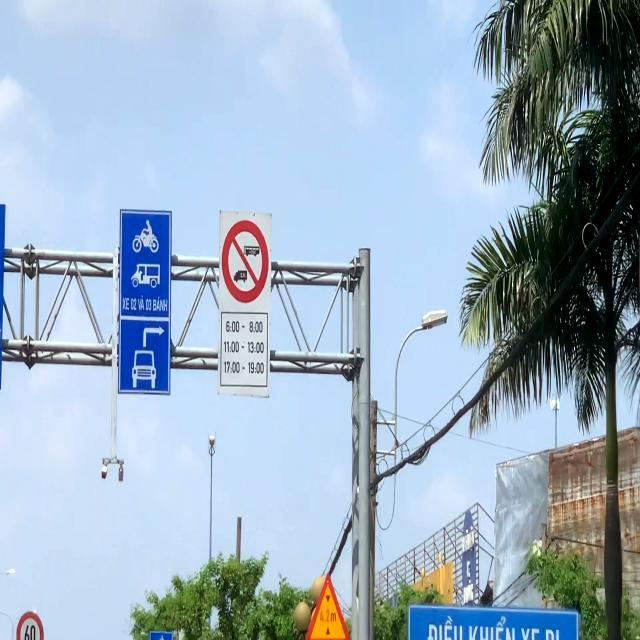Chieu cao an toan: (303, 569, 353, 640)
